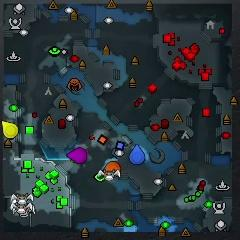p1: (129, 144, 145, 166)
p3: (65, 147, 87, 165)
p4: (1, 120, 20, 139)
p5: (105, 160, 122, 175)
